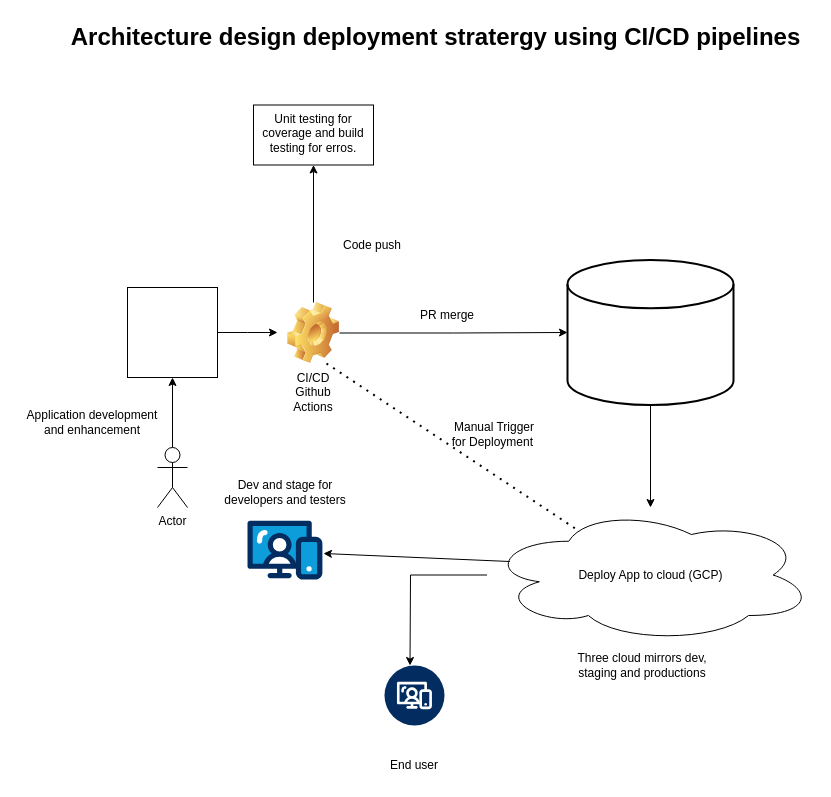
Image size: 831x797. Some labels were removed from this diagram. Here are the shapes that lost their labels. From the top down, the centre of each, then its label:
(172,332): Github Repo
(650,332): Artifact Store Dockerized images
